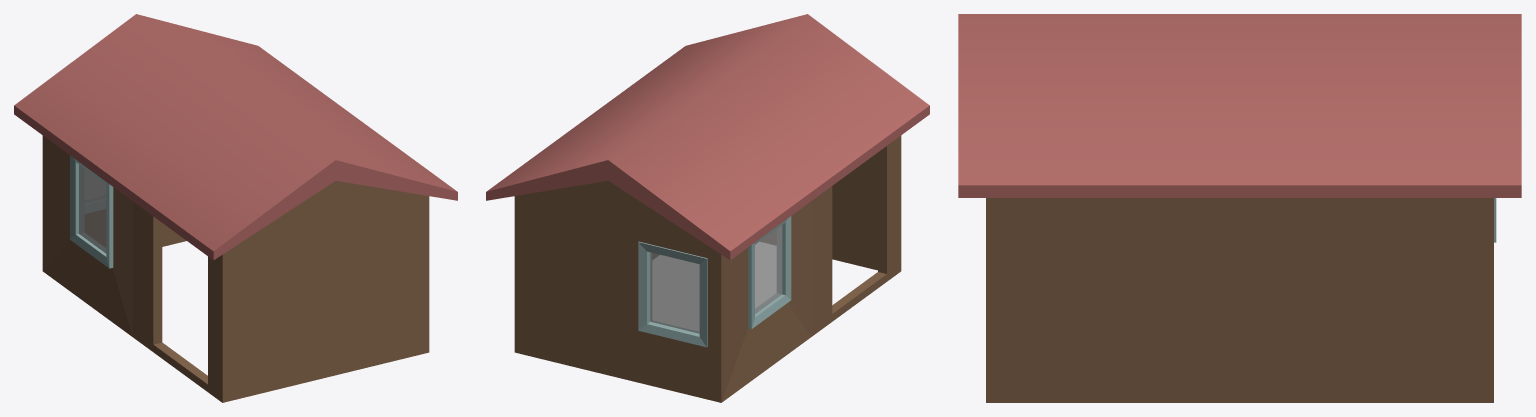
The model's file is BackhouseFacade.fbx.
3 renders of one model, left to right at view 1: azimuth 30°, elevation 25°; view 2: azimuth 150°, elevation 25°; view 3: azimuth 270°, elevation 25°, orthographic. The views are drawn at different scales.
Parts seen in each view (by area): view 1: pCube378; view 2: pCube378; view 3: pCube378.
Part boxes in pixels (x1,y1,x2,y2): pCube378: (14, 14, 457, 402); pCube378: (486, 14, 929, 402); pCube378: (958, 14, 1521, 402).
Size of the model in its own units: 2.37 by 2.08 by 3.35.
